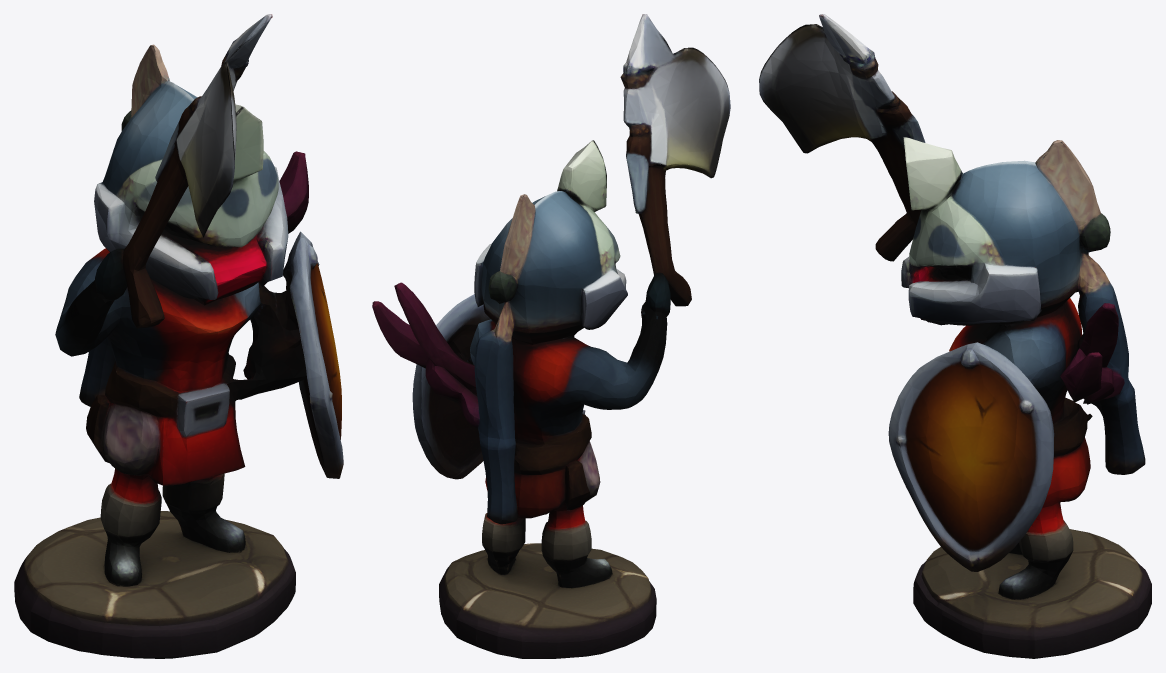
The model's file is ancientFighter_edit.glb.
3 renders of one model, left to right at view 1: azimuth 30°, elevation 25°; view 2: azimuth 150°, elevation 25°; view 3: azimuth 270°, elevation 25°, orthographic. The views are drawn at different scales.
Visible parts, largest first — view 1: world; view 2: world; view 3: world.
Boxes of the visible parts, bbox=[...] form: world: bbox=[14, 14, 343, 658]; world: bbox=[372, 14, 730, 658]; world: bbox=[759, 14, 1151, 658].
Bounding box in the file's own units: 0.4786 × 0.9989 × 0.602.
1 material, 1 textured.
